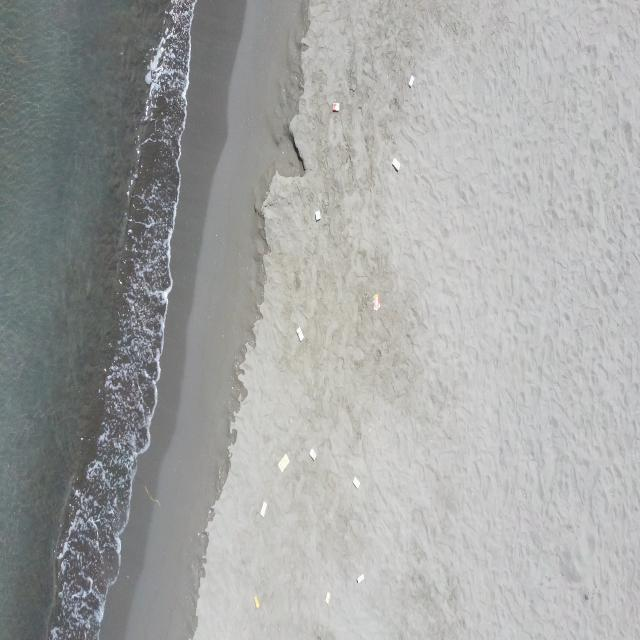retort-pouch: (277, 451, 290, 473), (391, 156, 401, 174), (373, 293, 381, 312), (259, 501, 268, 517), (356, 572, 366, 586), (296, 326, 304, 343), (352, 476, 361, 490), (309, 447, 317, 462), (253, 594, 260, 610), (314, 210, 323, 222), (407, 75, 415, 88), (331, 102, 340, 112), (325, 591, 331, 605)
